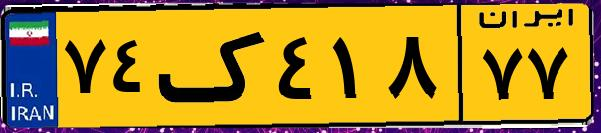1: (330, 28, 385, 110)
4: (270, 28, 330, 110), (110, 28, 158, 98)
7: (57, 26, 110, 100), (475, 38, 525, 113), (525, 38, 570, 115)
8: (385, 28, 445, 110)
ک: (158, 12, 270, 120)
